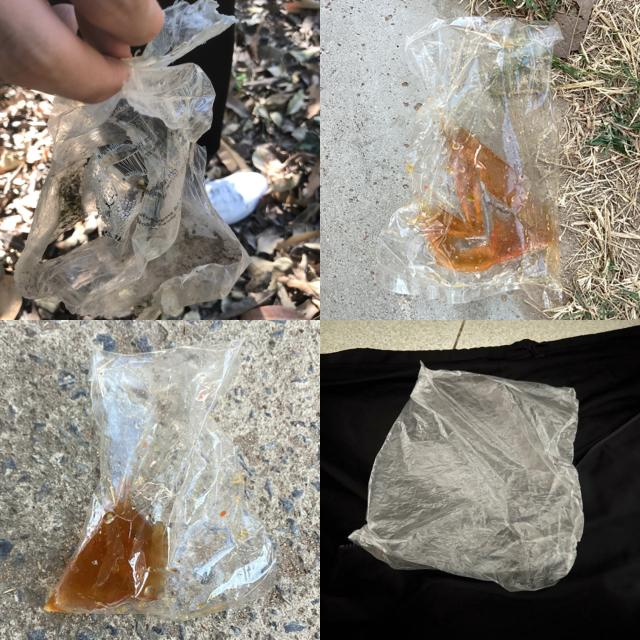Single-layer Plastic: (15, 0, 249, 319), (46, 341, 278, 619), (376, 18, 561, 308), (350, 364, 584, 591)
